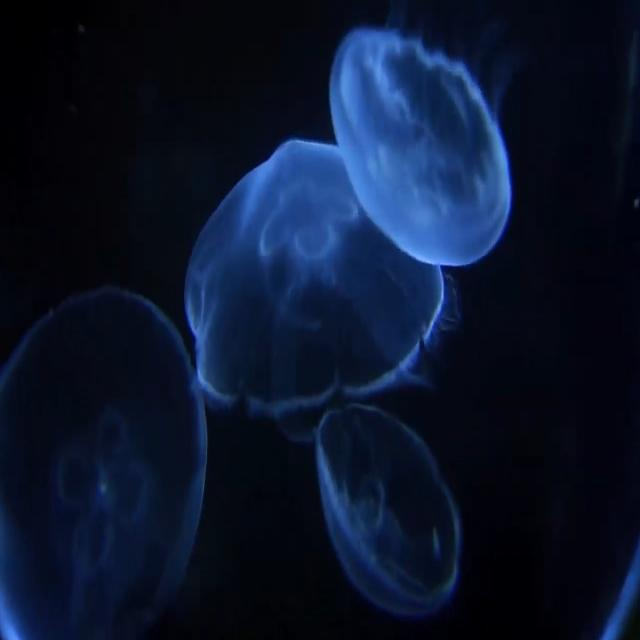Moon-jellyfish: (185, 140, 456, 428), (0, 288, 206, 639), (330, 28, 511, 268), (316, 404, 462, 618)
